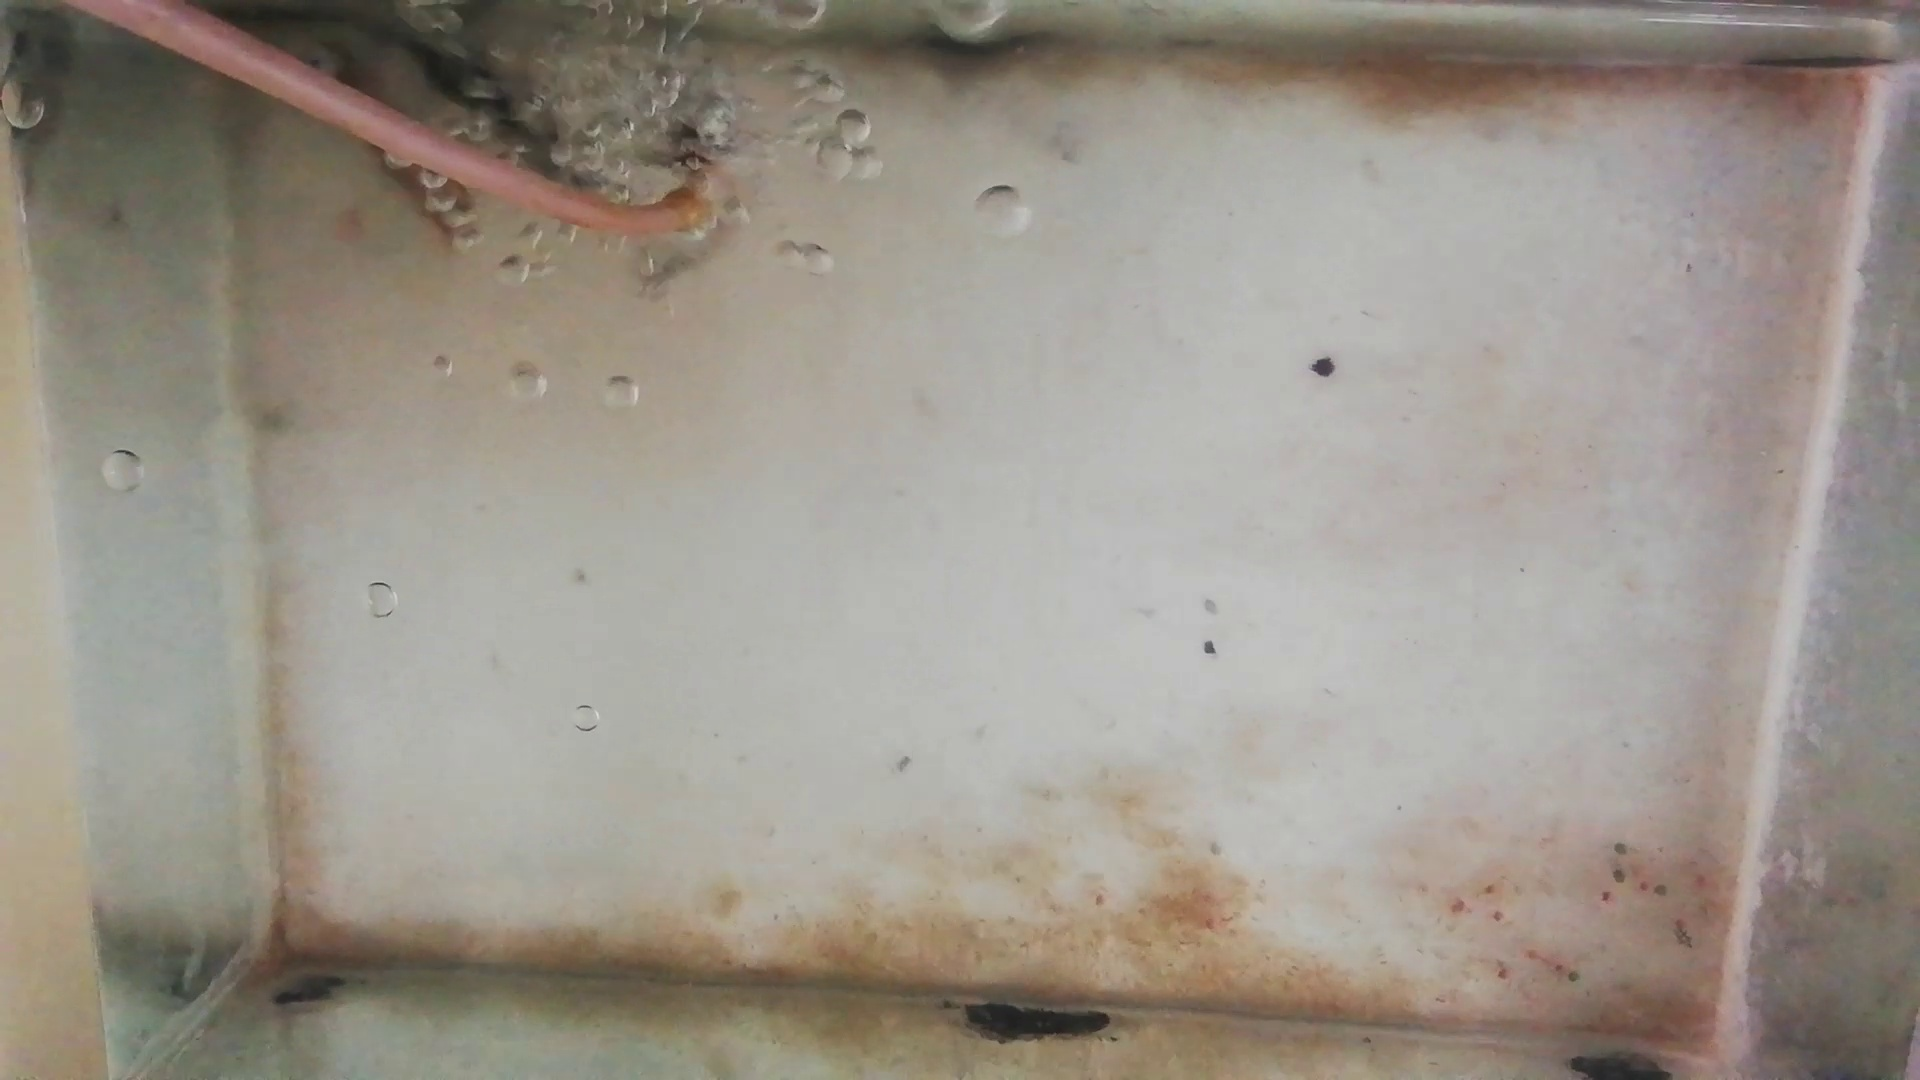fish: (326, 44, 472, 236), (390, 30, 574, 171)
